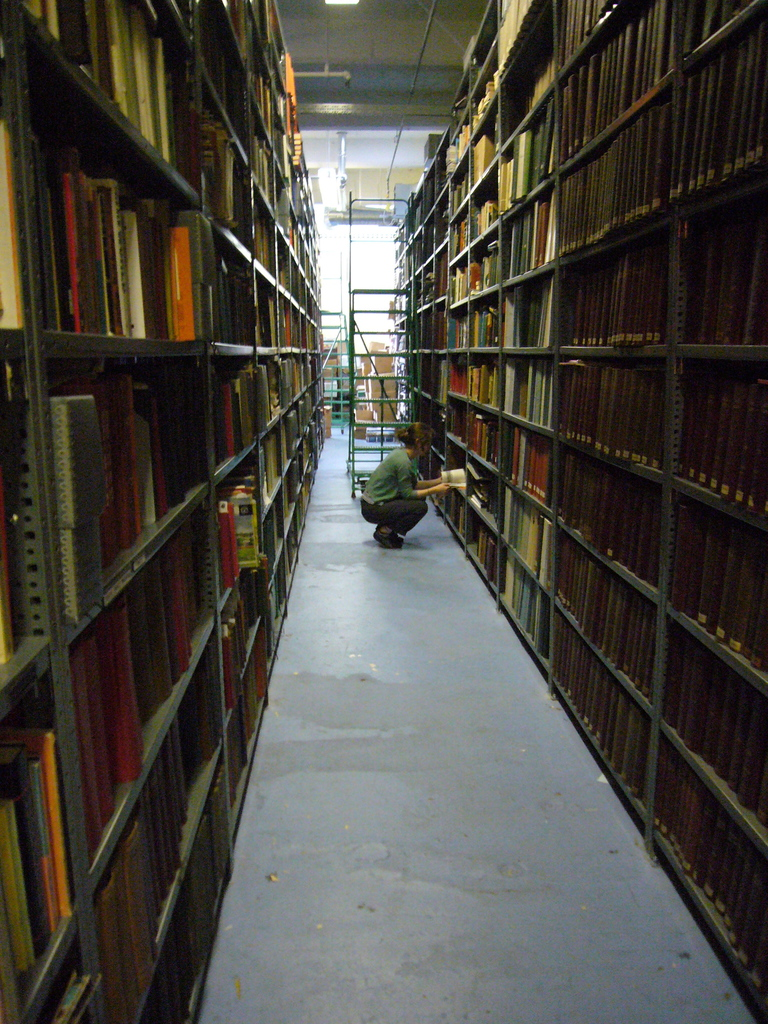Person: (359, 421, 450, 548)
